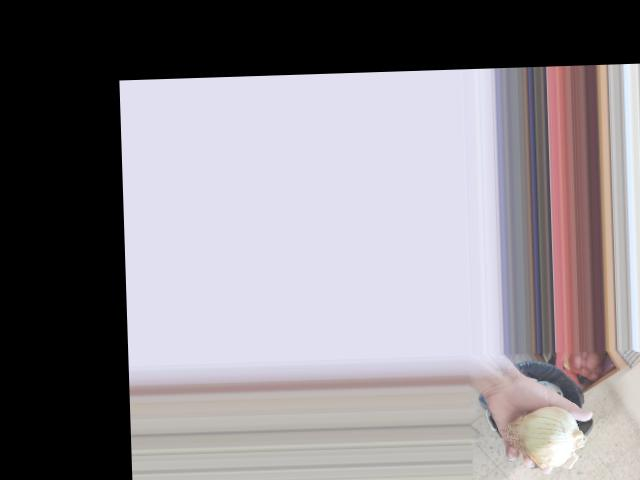onion: (505, 402, 583, 466)
